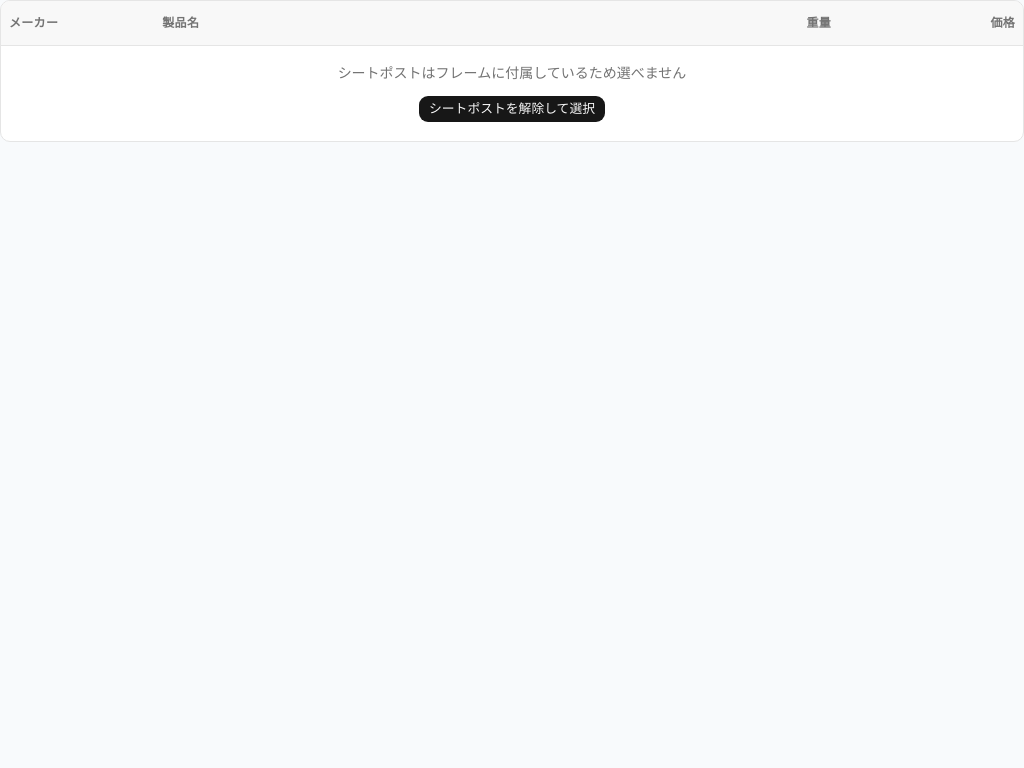
Scenario: CandidatePartsBlockedMessage › 確認ダイアログを開いただけでは解除しない
Click the button "シートポストを解除して選択" at {"x": 512, "y": 109}, box [418,95,606,123]
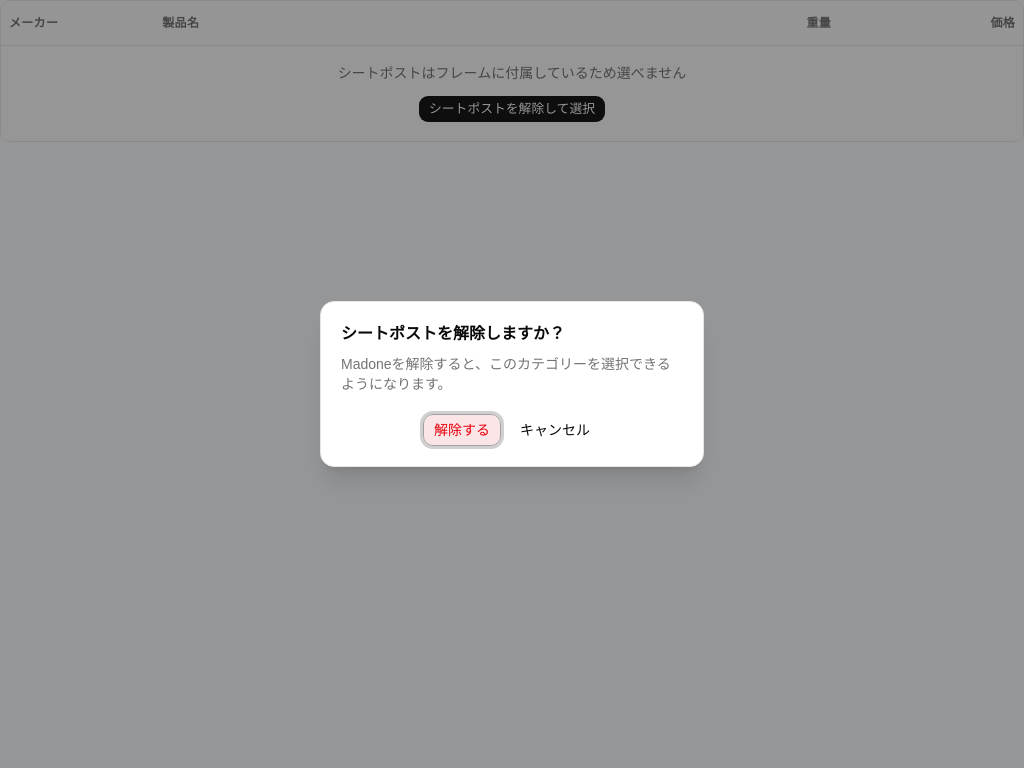
Result: the heading "シートポストを解除しますか？" is shown at [341,325,565,342]
Result: the text "Madoneを解除すると、このカテゴリーを選択できるようになります。" is shown at [341,354,683,394]
